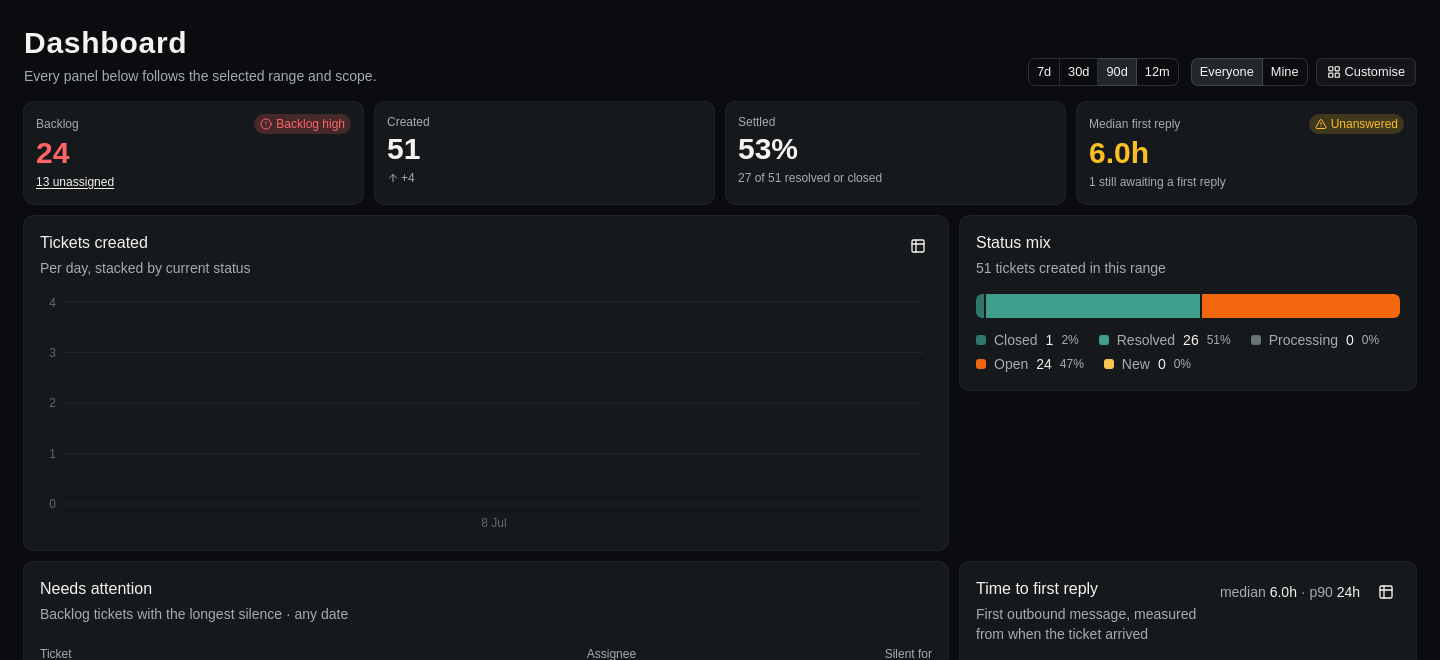
DashboardPage › heads the volume table's first column in sentence case
Click the 1st button named "Show data table". click: (918, 246)
box: [904,232,932,260]
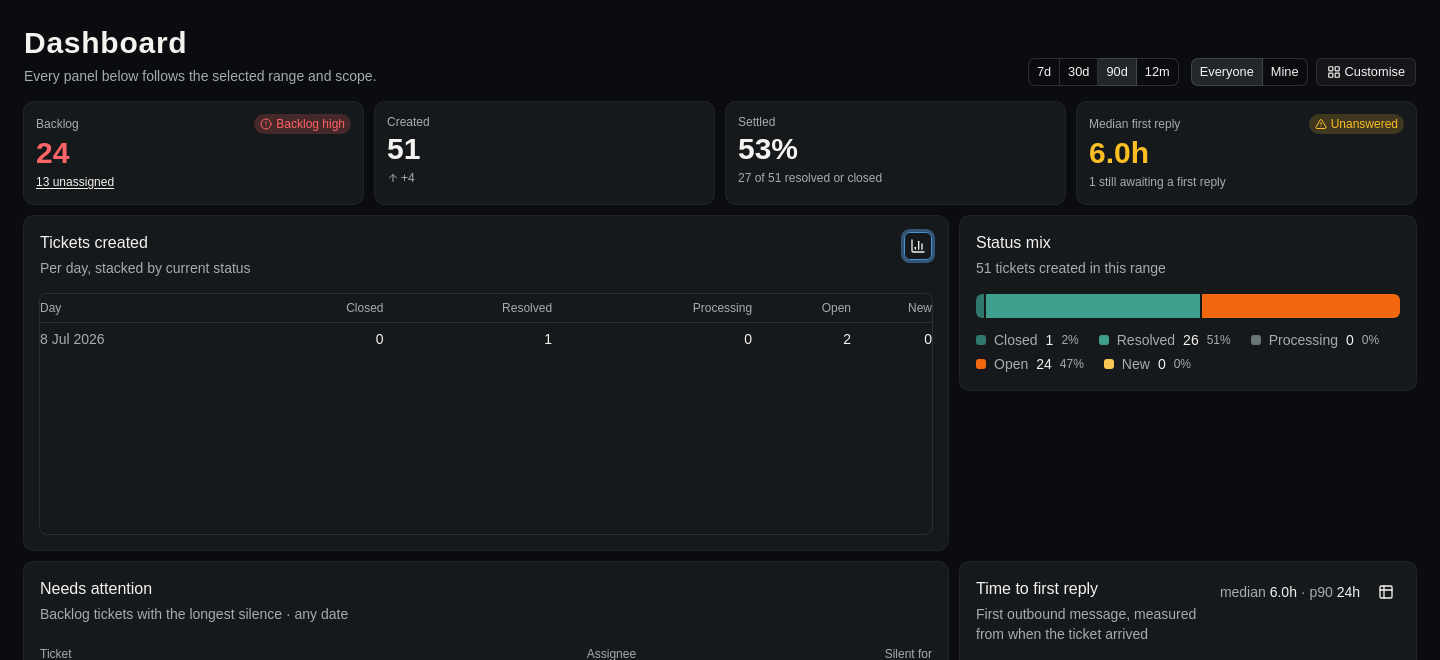
Expected: the column heading "Day" is shown, [40,294,258,322]
